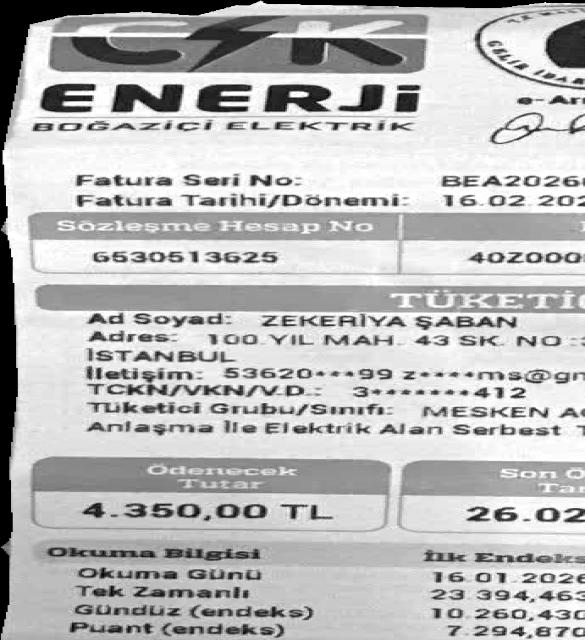electricity-bill: (0, 1, 585, 640)
